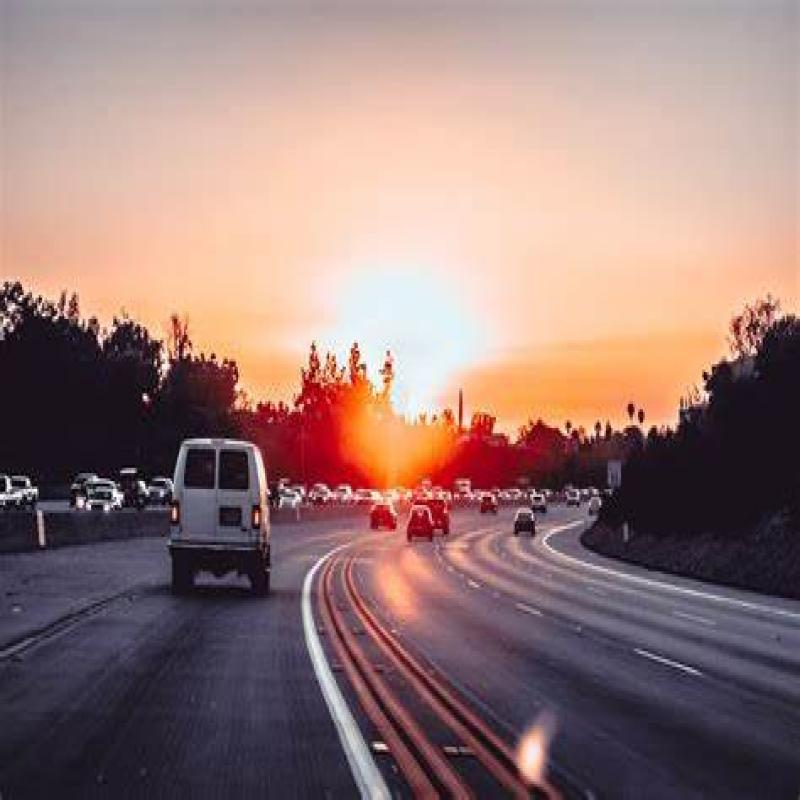car: (506, 504, 542, 554), (364, 498, 396, 540)
